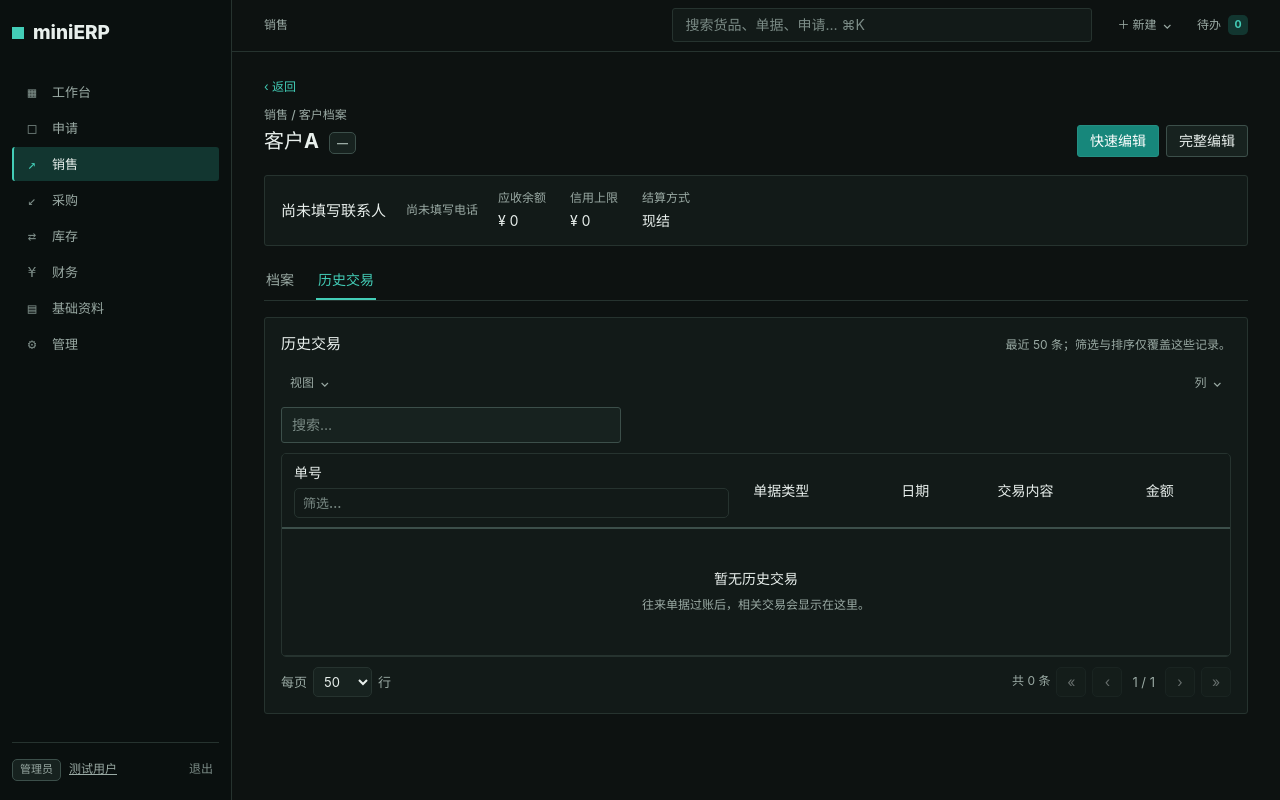
Test case: 重设计入口与路由行为 › 详情历史表修改筛选与切换分区后仍返回原始列表
The width and height of the screenshot is (1280, 800).
(page scrolled)
Type "SO-1" into the field named "筛选单号" at [512, 503], box x1=294 y1=488 x2=729 y2=518
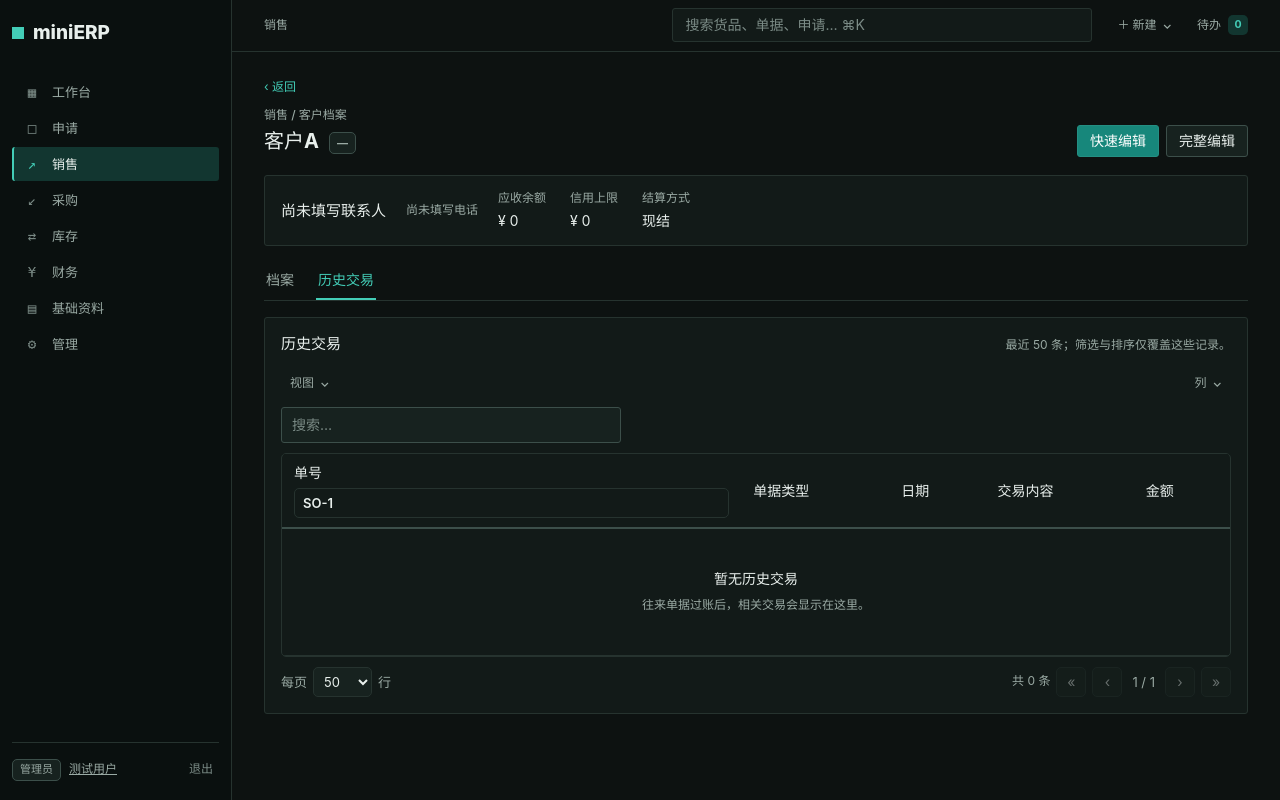
Click the tab "档案" at [280, 280], box x1=264 y1=262 x2=296 y2=300
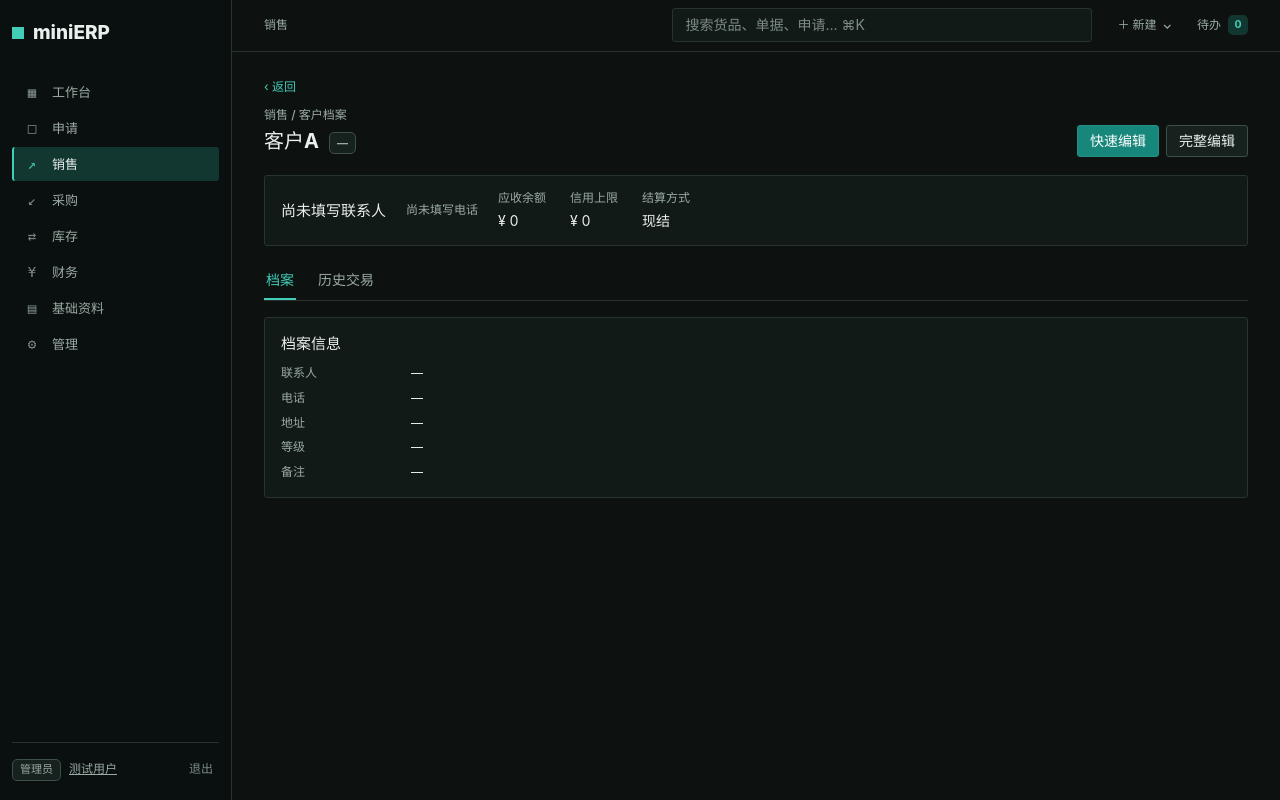
Click the link "‹ 返回" at [280, 87], box x1=264 y1=79 x2=296 y2=95
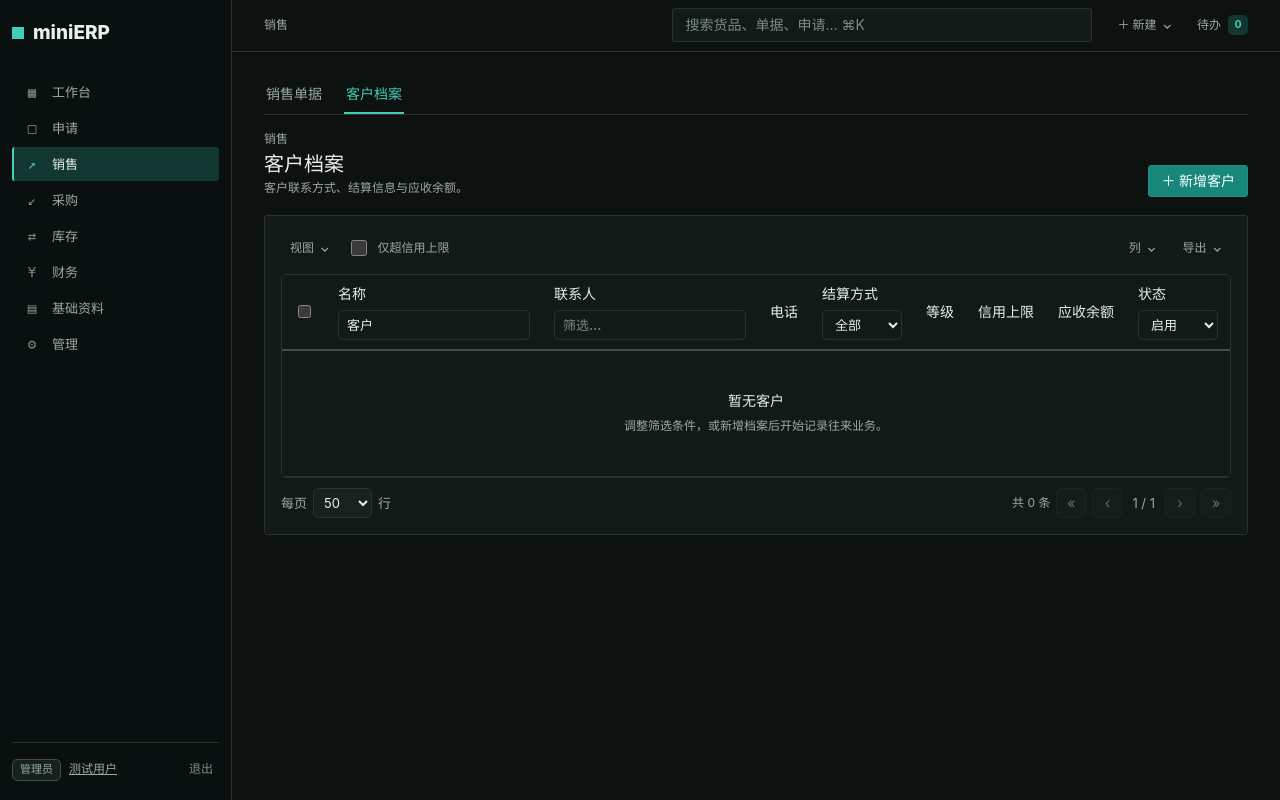
Result: the heading "客户档案" is shown at x1=264 y1=152 x2=344 y2=176
